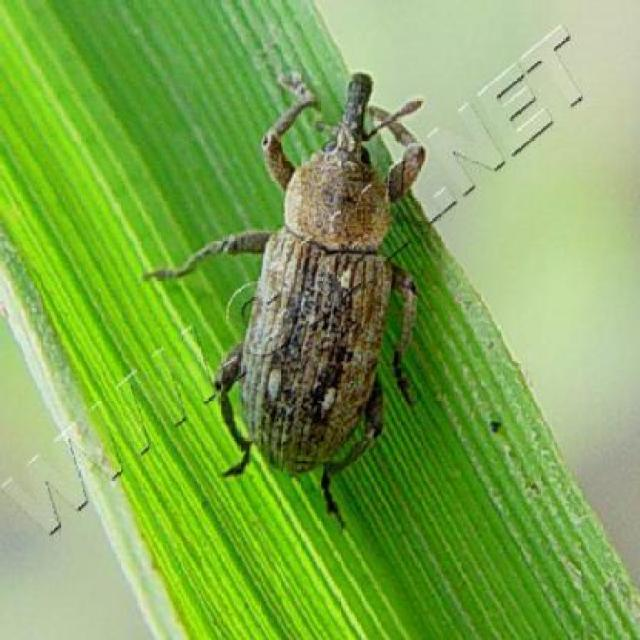rice-bug: (192, 70, 438, 496)
